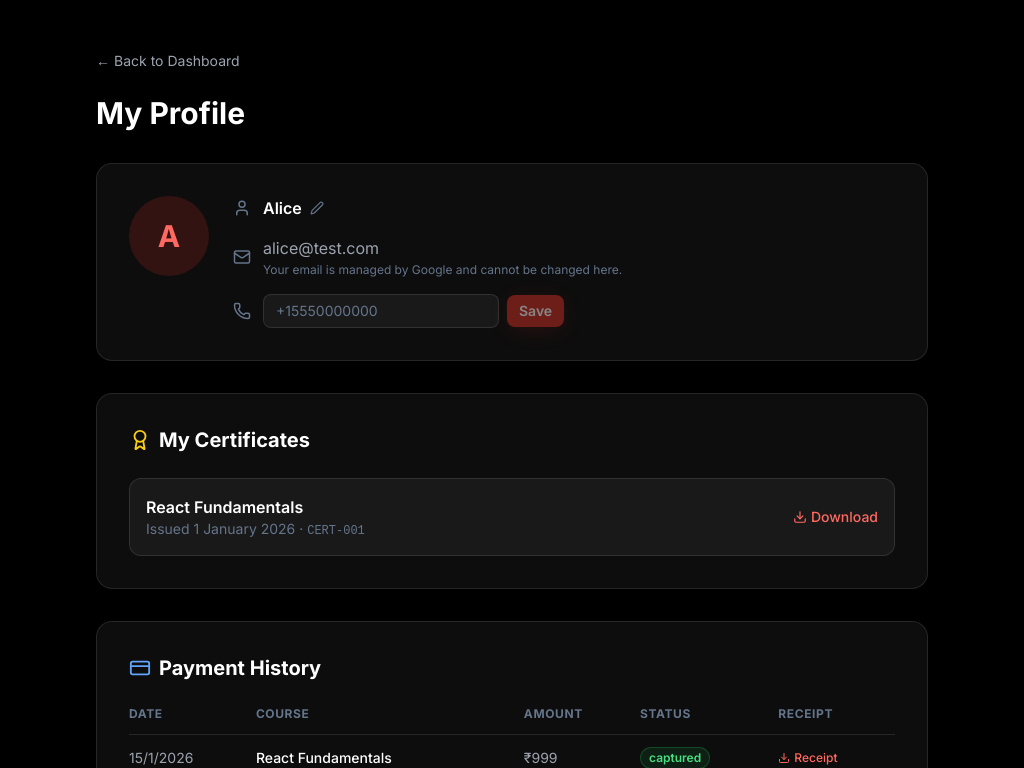
Test: Profile › shows validation error for malformed phone number
Expected: the text "Alice" is shown, [263,196,302,220]
Type "not-a-phone" into the field with placeholder "+15550000000".
click(381, 311); type("not-a-phone")  # box [263,294,499,328]
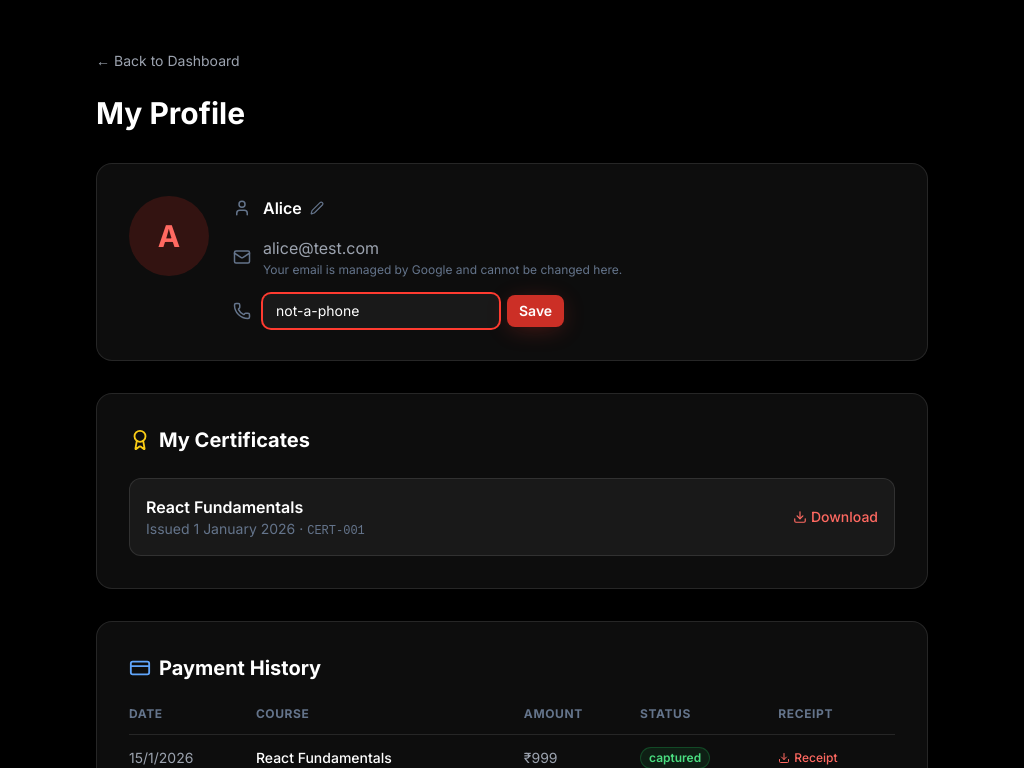
Click the button "Save".
click(536, 311)  # box [507,295,564,327]
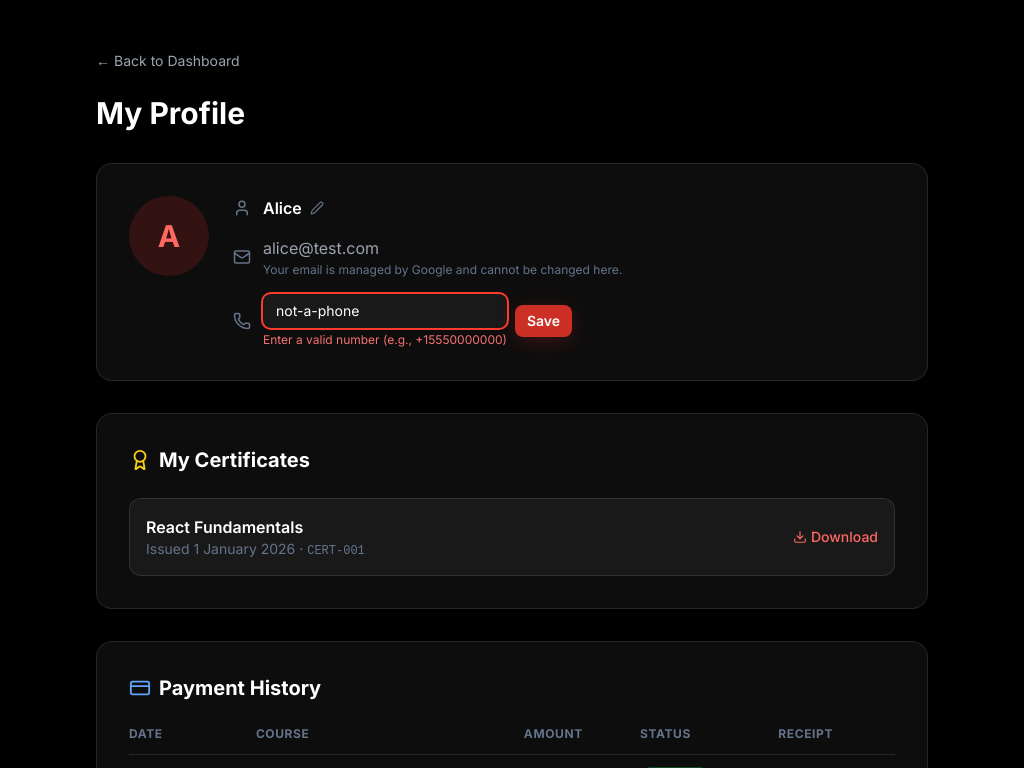
Expected: the text "Enter a valid number (e.g., +15550000000)" is shown, [263,332,507,348]
